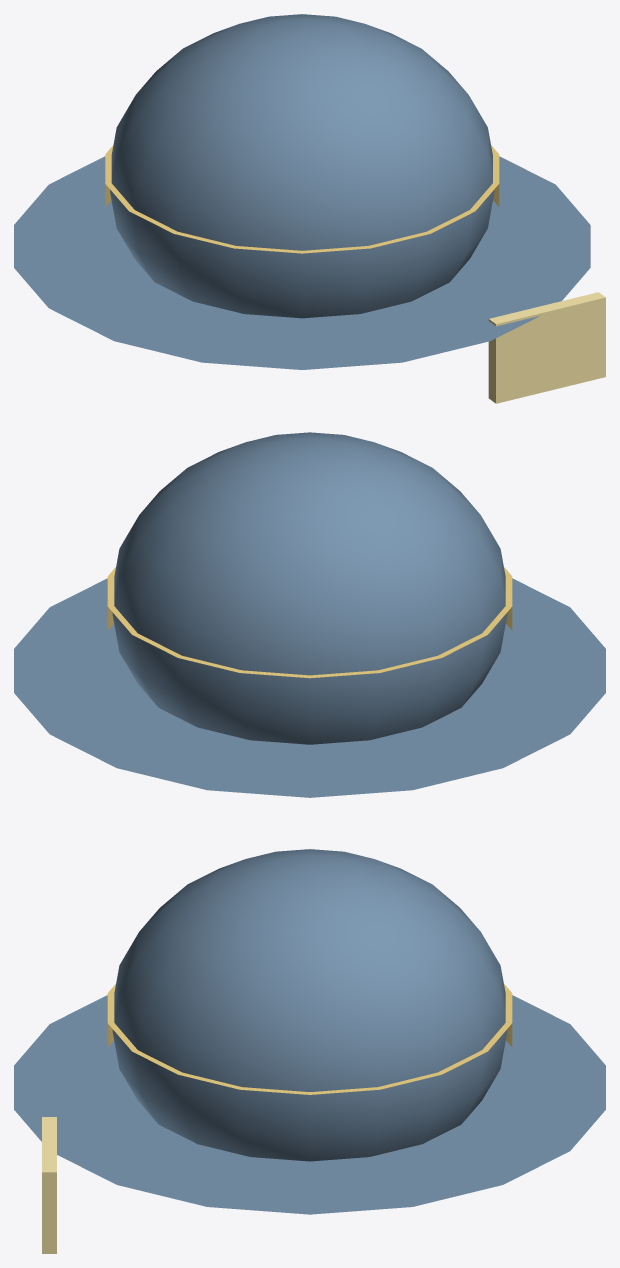
File: bargain-bowler.glb
The picture shows the model from 3 angles, top to bottom: view 1: azimuth 30°, elevation 25°; view 2: azimuth 150°, elevation 25°; view 3: azimuth 270°, elevation 25°; orthographic projection. The views are drawn at different scales.
Parts seen in each view (by area): view 1: bargain-bowler; view 2: bargain-bowler; view 3: bargain-bowler.
Boxes of the visible parts, x1,y1,x2,y2 form: bargain-bowler: (14, 14, 605, 403); bargain-bowler: (14, 432, 605, 797); bargain-bowler: (14, 849, 605, 1253).
Bounding box in the file's own units: 0.6 × 0.325 × 0.5909.
